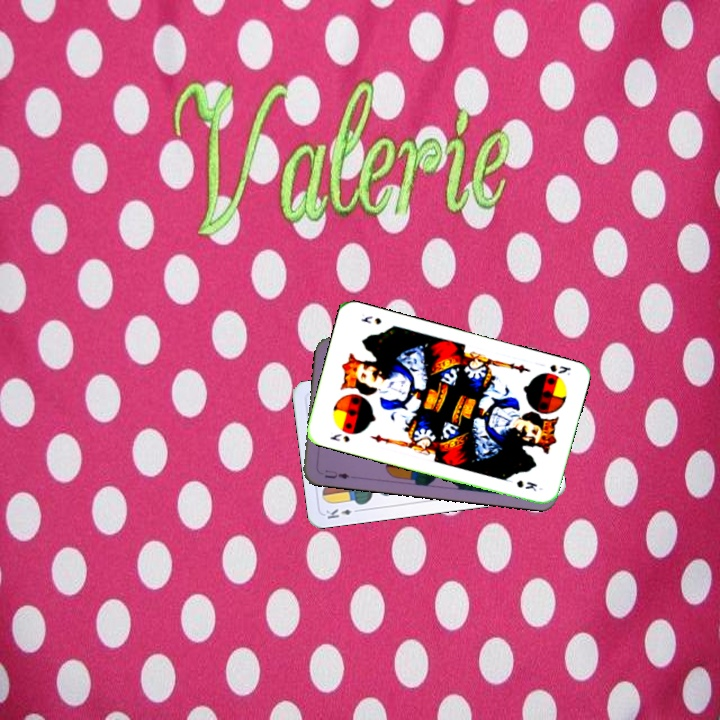EK: (322, 505, 363, 521)
EU: (321, 466, 352, 482)
SK: (546, 360, 574, 378), (326, 430, 352, 445)
